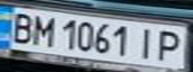0: (75, 19, 96, 53)
1: (54, 16, 78, 51), (109, 24, 133, 57)
6: (90, 20, 115, 55)
B: (3, 10, 39, 44)
I: (133, 25, 160, 61)
M: (27, 12, 57, 47)
P: (151, 27, 190, 63)
